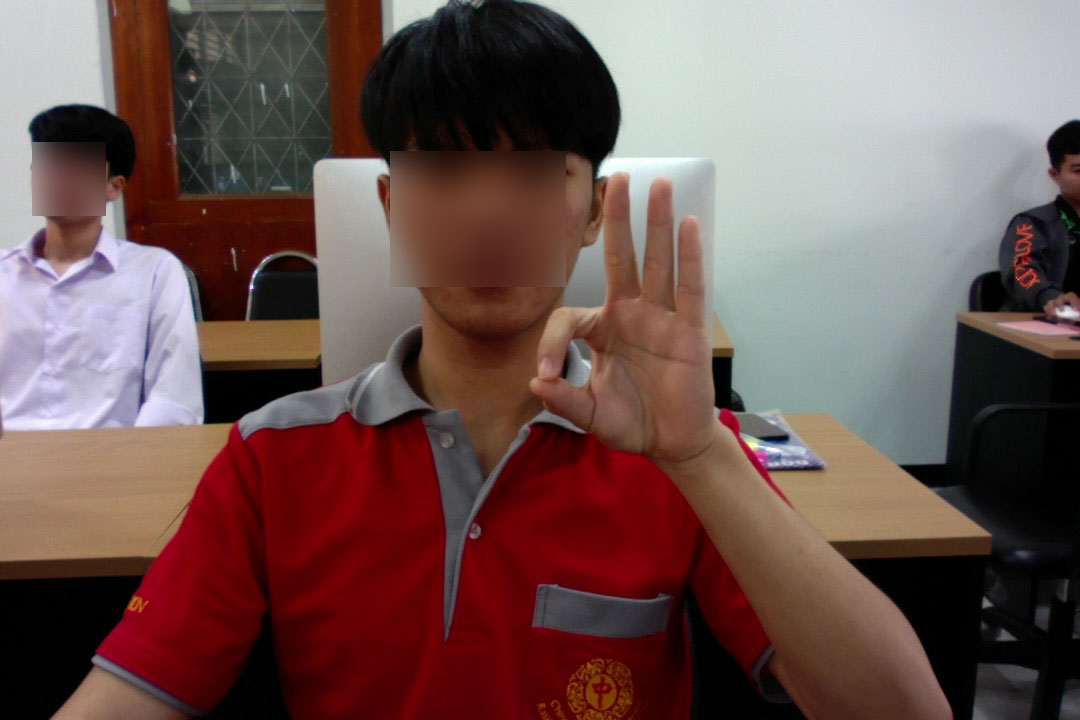for: (519, 164, 741, 473)
